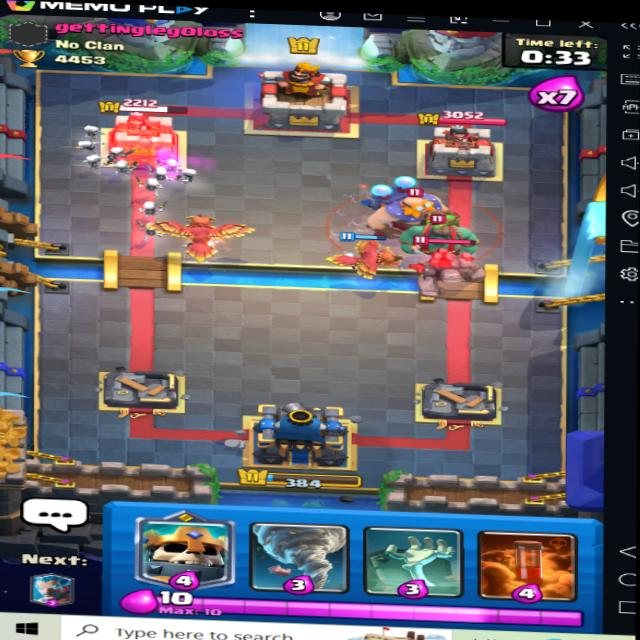electro-giant: (349, 177, 446, 238)
goblin-giant: (402, 203, 474, 256)
golem: (401, 230, 494, 295)
